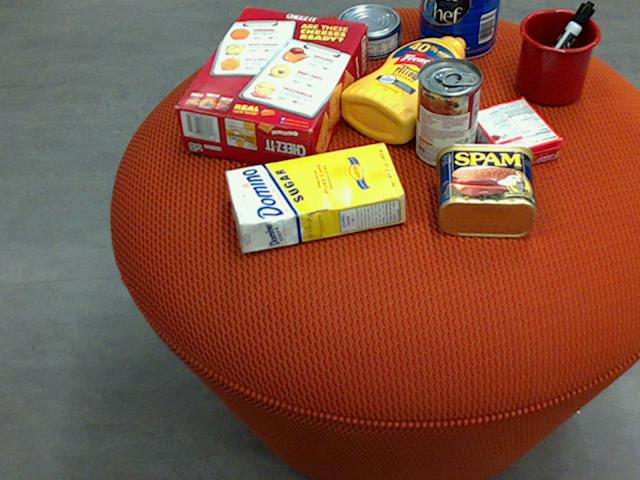cracker_box: (172, 6, 367, 172)
gelatin_box: (468, 98, 563, 172)
large_marker: (524, 0, 594, 93)
master_chef_can: (418, 0, 500, 57)
mug: (515, 8, 601, 104)
mustard_bottle: (339, 36, 465, 142)
potted_meat_can: (434, 143, 534, 236)
sugar_box: (223, 141, 406, 253)
tomato_soup_can: (416, 55, 480, 167)
tuna_fish_can: (335, 3, 400, 56)
